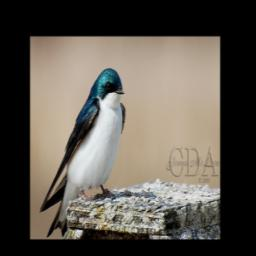Swallow: (39, 67, 126, 238)
